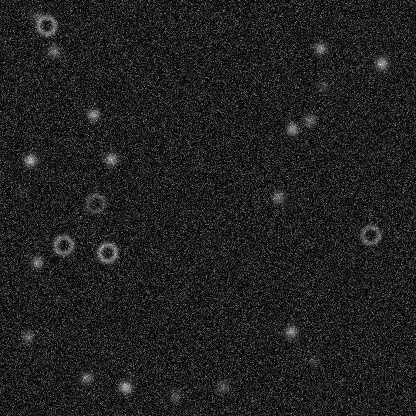Ring: (34, 13, 58, 37), (95, 240, 119, 264), (83, 191, 107, 215), (51, 233, 75, 257), (358, 222, 382, 246)
Spot: (215, 378, 231, 394), (14, 183, 30, 199), (19, 328, 35, 344), (85, 106, 101, 122), (284, 121, 300, 137), (28, 254, 44, 270), (270, 188, 286, 204), (373, 55, 389, 71), (315, 78, 331, 94), (282, 323, 298, 339), (117, 379, 133, 395), (312, 40, 328, 56), (78, 369, 94, 385), (301, 112, 317, 128), (28, 7, 44, 23), (102, 151, 118, 167), (306, 352, 322, 368), (22, 152, 38, 168), (167, 387, 183, 403), (45, 43, 61, 59)
